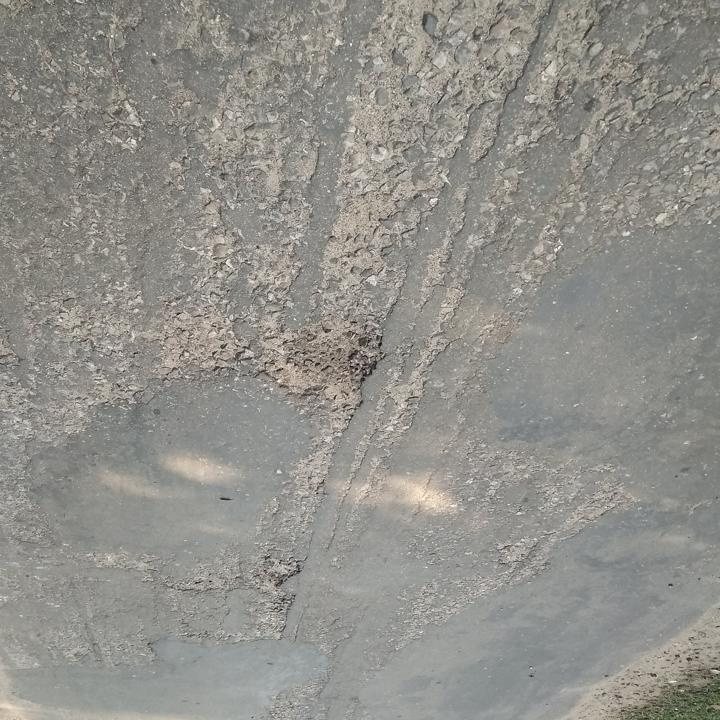pothole: (255, 318, 386, 405), (259, 551, 303, 589)
